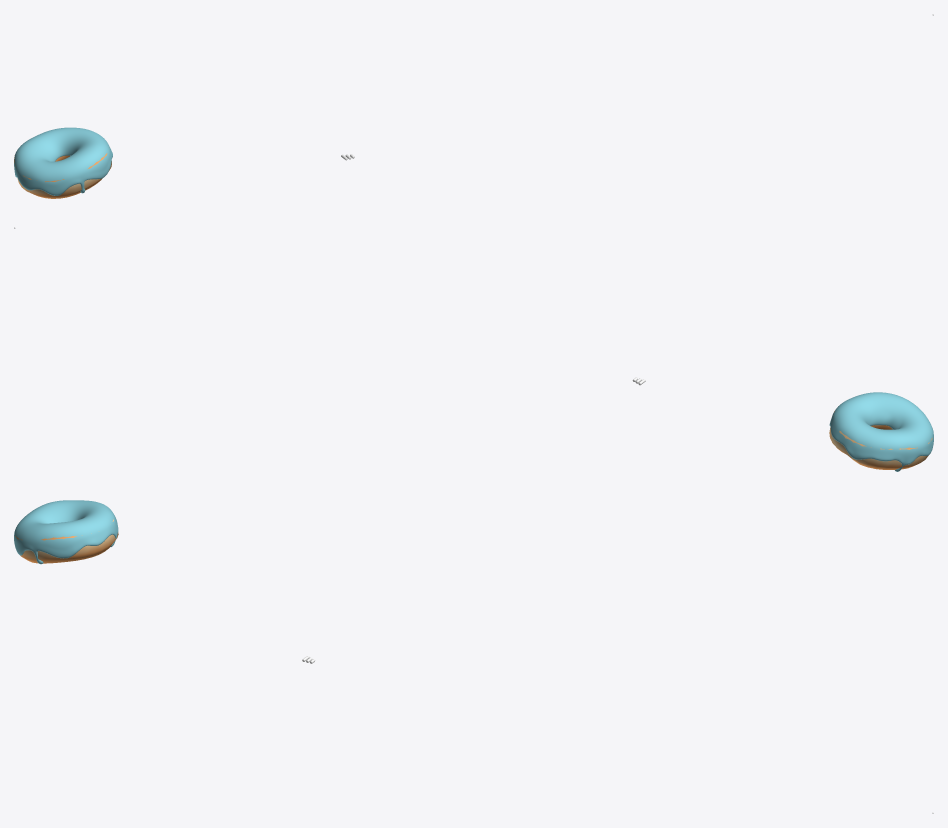
The model's file is donut.glb.
3 renders of one model, top to bottom at view 1: azimuth 30°, elevation 25°; view 2: azimuth 150°, elevation 25°; view 3: azimuth 330°, elevation 25°, orthographic. The views are drawn at different scales.
Visible parts, largest first — view 1: Icing.006, Round.001; view 2: Icing.006, Round.001; view 3: Icing.006, Round.001.
Boxes of the visible parts, x1,y1,x2,y2 form: Icing.006: [14, 127, 112, 195]; Round.001: [14, 153, 111, 198]; Icing.006: [829, 392, 933, 471]; Round.001: [829, 411, 932, 469]; Icing.006: [14, 500, 118, 564]; Round.001: [15, 519, 118, 563].
Size of the model in its own units: 1.42 by 0.0908 by 0.1556.
3 materials, 1 textured.
